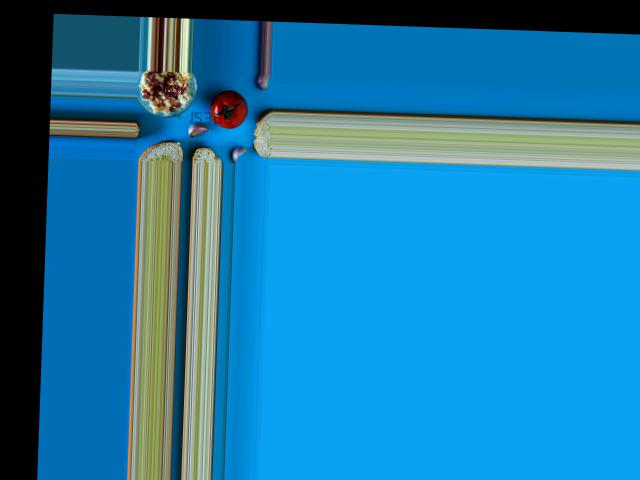tomato: (211, 89, 248, 129)
